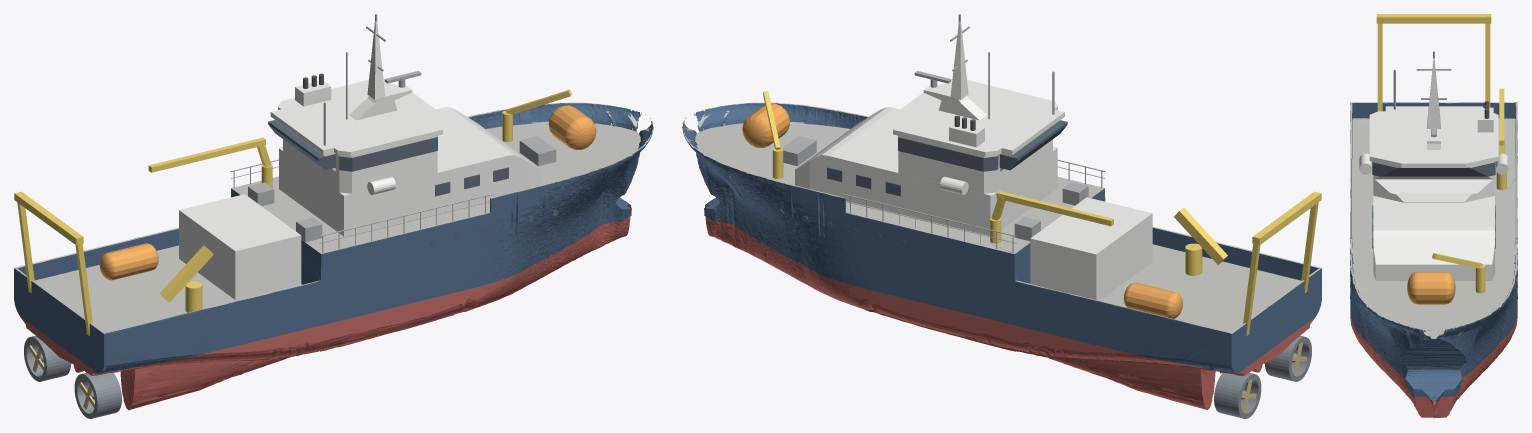
The model's file is Gunnerus_GA_image.glb.
3 renders of one model, left to right at view 1: azimuth 30°, elevation 25°; view 2: azimuth 150°, elevation 25°; view 3: azimuth 270°, elevation 25°, orthographic. The views are drawn at different scales.
Parts seen in each view (by area): view 1: Hull topside, Decks, Hull bottom, A-deck house, Hangar, Wheelhouse, Thrusters (steel), Bridge deck house, Wheelhouse windows, A-frame, Mast (white), Work boat (+9 smaller); view 2: Hull topside, Decks, Hull bottom, A-deck house, Hangar, Wheelhouse, Thrusters (steel), Bridge deck house, Wheelhouse windows, A-frame, Mast (white), Work boat (+9 smaller); view 3: Decks, Hull topside, A-deck house, Wheelhouse, Bridge deck house, Hull bottom, A-frame, Rescue boat, Wheelhouse windows, Mast (white), Forecastle crane, A-deck crane (+4 smaller).
Boxes of the visible parts, x1,y1,x2,y2 form: Hull topside: (14, 103, 653, 373); Decks: (14, 102, 653, 333); Hull bottom: (20, 207, 631, 410); A-deck house: (279, 107, 540, 236); Hangar: (179, 194, 301, 299); Wheelhouse: (270, 80, 442, 175); Thrusters (steel): (24, 335, 121, 418); Bridge deck house: (283, 139, 437, 194); Wheelhouse windows: (268, 120, 437, 171); A-frame: (14, 191, 92, 335); Mast (white): (349, 21, 412, 120); Work boat: (99, 243, 158, 280); Hull topside: (682, 103, 1321, 373); Decks: (682, 102, 1321, 333); Hull bottom: (704, 207, 1315, 410); A-deck house: (795, 107, 1057, 235); Hangar: (1030, 197, 1152, 300); Wheelhouse: (893, 80, 1064, 175); Thrusters (steel): (1214, 335, 1311, 418); Bridge deck house: (898, 139, 1052, 193); Wheelhouse windows: (898, 120, 1067, 171); A-frame: (1243, 191, 1321, 335); Mast (white): (923, 21, 986, 120); Work boat: (1123, 282, 1182, 318); Decks: (1350, 102, 1517, 338); Hull topside: (1350, 102, 1517, 401); A-deck house: (1373, 195, 1494, 280); Wheelhouse: (1369, 106, 1498, 179); Bridge deck house: (1373, 179, 1494, 202); Hull bottom: (1350, 311, 1517, 418); A-frame: (1376, 14, 1491, 111); Rescue boat: (1407, 271, 1455, 304); Wheelhouse windows: (1372, 161, 1495, 176); Mast (white): (1427, 58, 1440, 149); Forecastle crane: (1432, 253, 1485, 293); A-deck crane: (1496, 88, 1506, 189).
Bounding box in the file's own units: 37.1 × 18.21 × 9.66.
